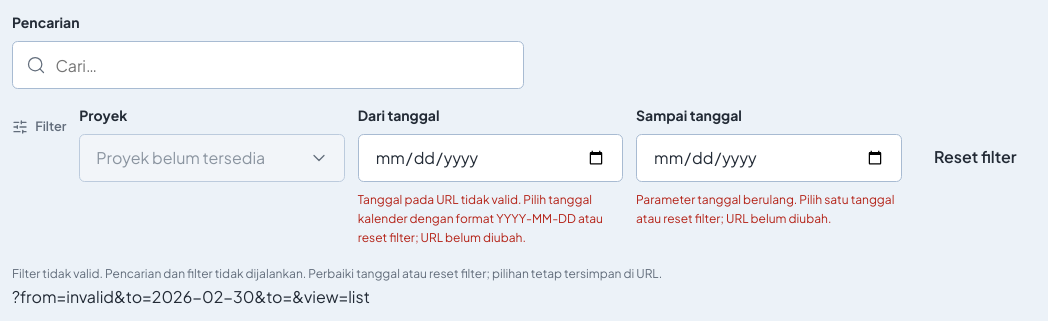
Test: Validasi lokal rentang tanggal FilterToolbar › reset membersihkan tanggal malformed dan duplikat tetapi mempertahankan query lain
The image size is (1048, 321).
Click the button "Reset filter": (975, 157) [914,134,1036,181]
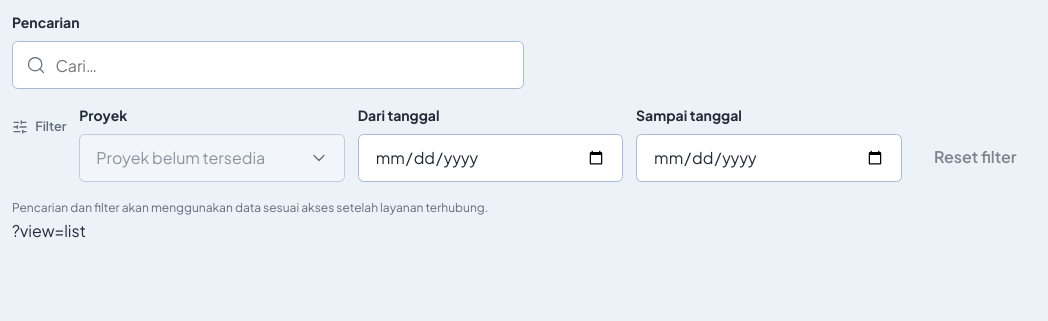
Check: the message no longer shows "Filter tidak valid.", box [12,200,488,215]
Check: the button "Reset filter" is disabled, box [914,134,1036,181]
